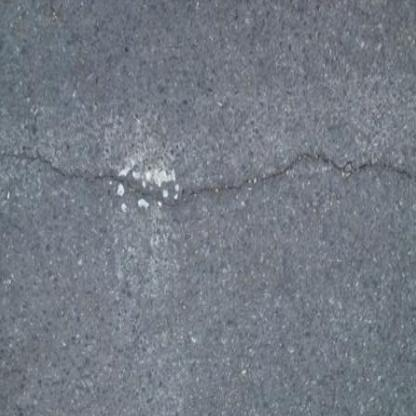Cracks: (0, 150, 416, 209)
